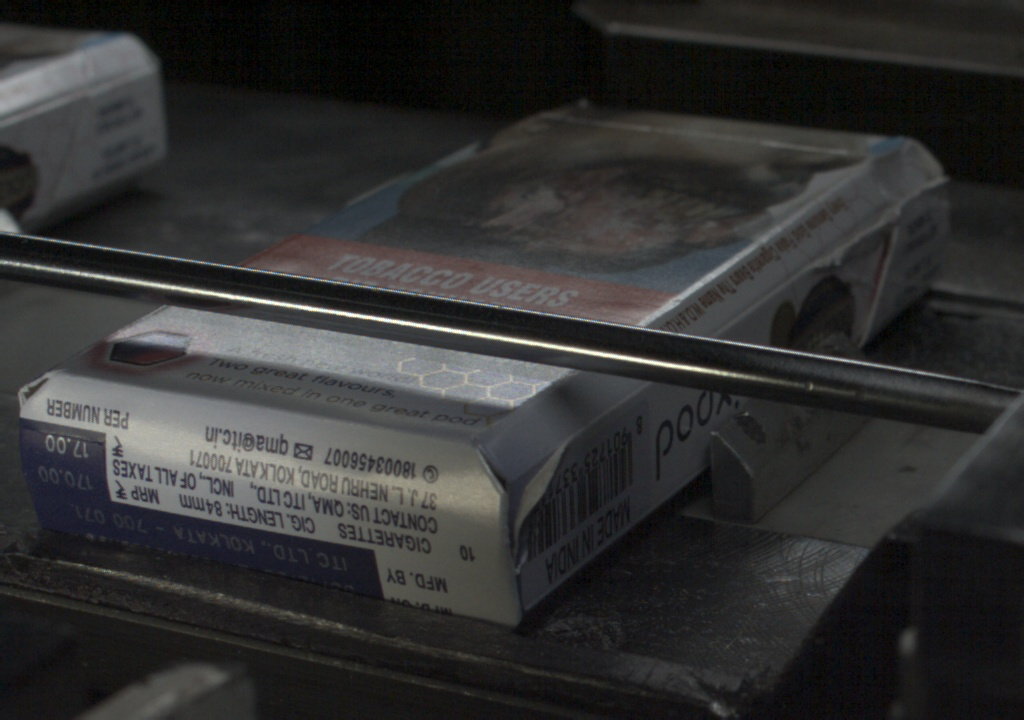g_label: (28, 494, 378, 597)
g_lmiter: (720, 274, 796, 331)
ng_lmiter: (506, 447, 567, 567)
ng_miter: (895, 159, 947, 210)
price: (23, 422, 108, 493)
